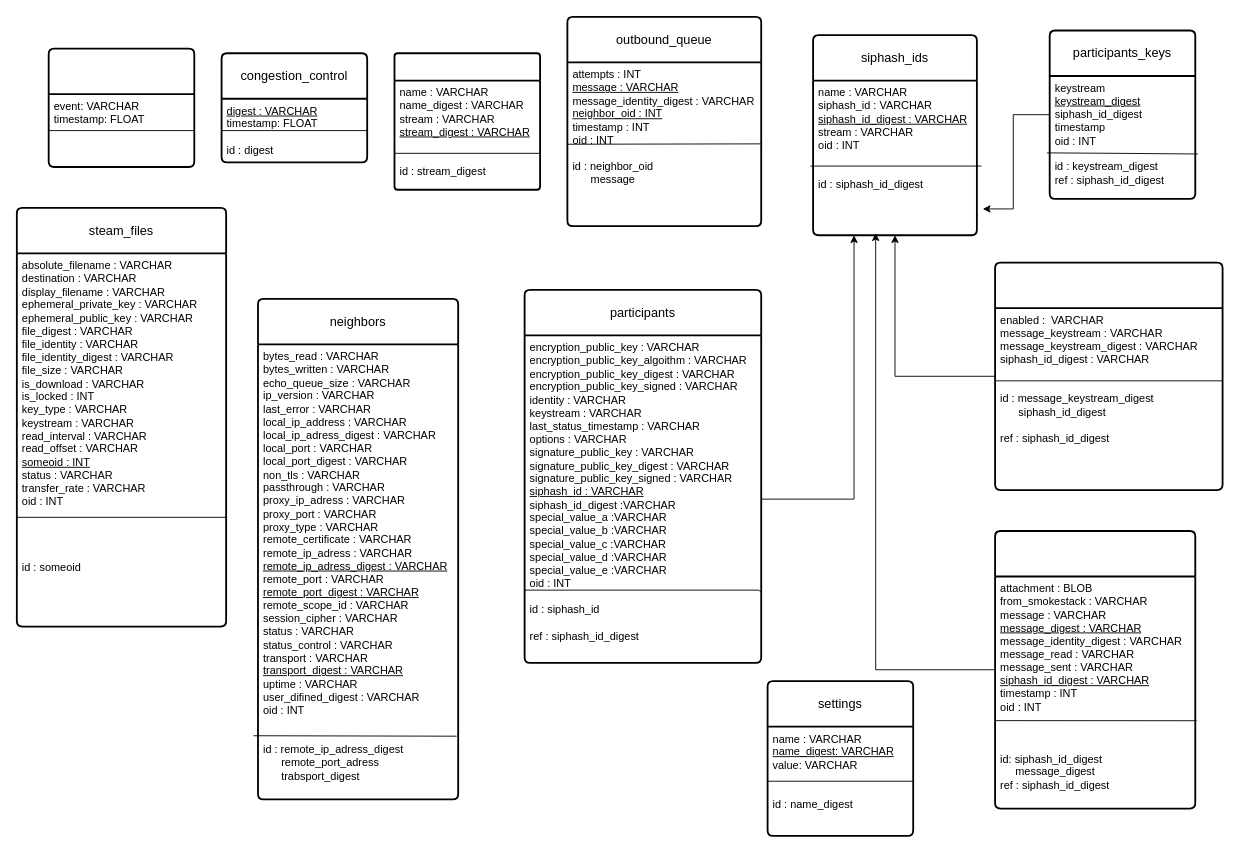
Image size: 1239x852. Some labels were removed from this diagram. Each missing label, with the box of its shape:
arson_keys: (994, 261, 1223, 490)
fire: (393, 52, 541, 190)
log: (47, 47, 195, 167)
participants_messages: (994, 530, 1196, 809)
